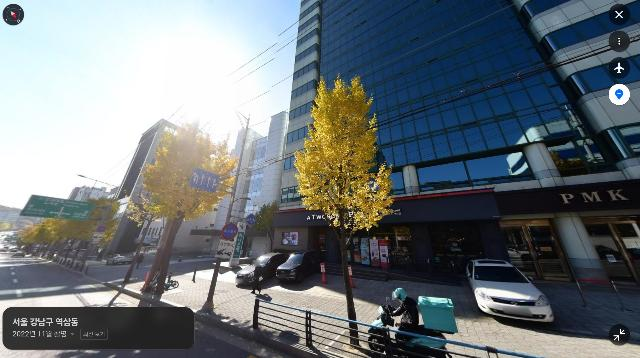ginkgo: (293, 73, 396, 346), (127, 121, 239, 304), (68, 197, 120, 270), (17, 213, 71, 261)
